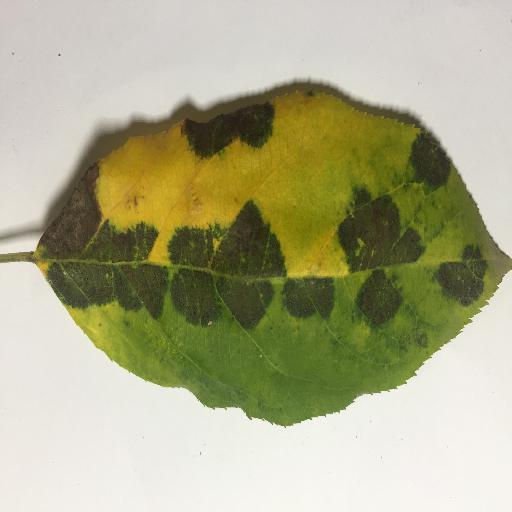Brown_Spot: (42, 167, 104, 257), (188, 115, 274, 150), (232, 203, 273, 261)
